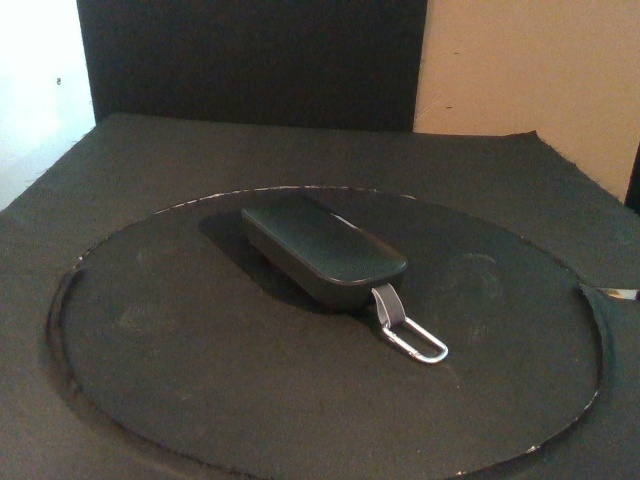speaker: (240, 193, 409, 308)
